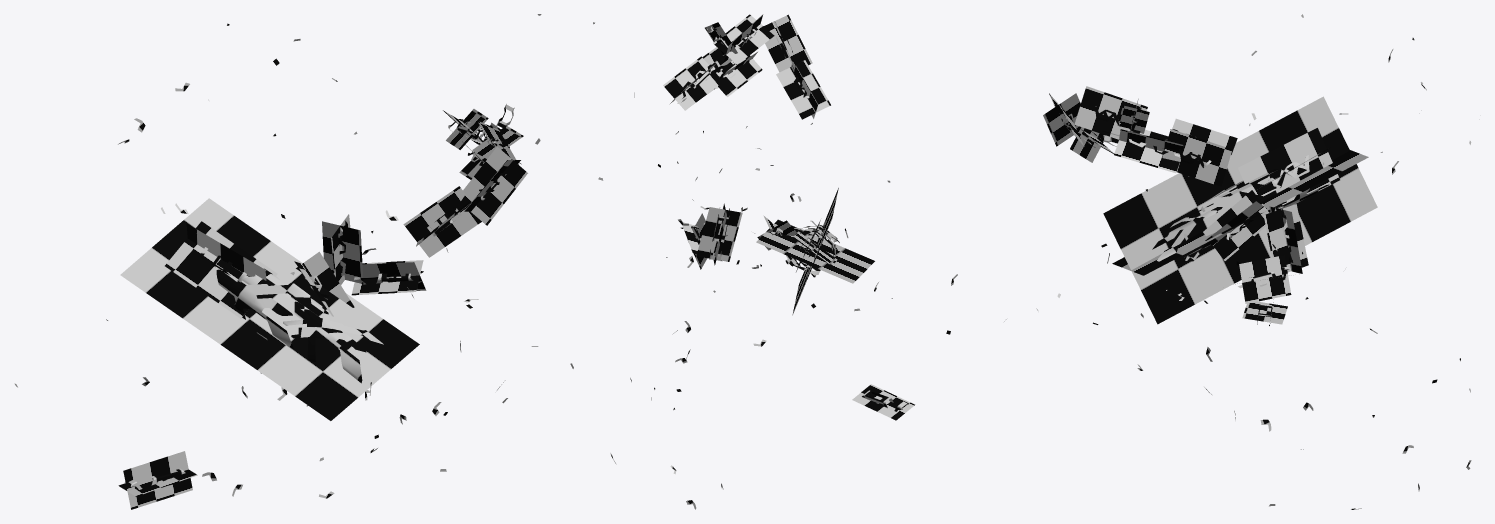
The model's file is zone_scrap_pirates3.obj.
The picture shows the model from 3 angles, left to right: view 1: azimuth 30°, elevation 25°; view 2: azimuth 150°, elevation 25°; view 3: azimuth 270°, elevation 25°; orthographic projection. The views are drawn at different scales.
Visible parts, largest first — view 1: claster_scrap_3; view 2: claster_scrap_3; view 3: claster_scrap_3.
Boxes of the visible parts, <box> form: claster_scrap_3: <box>14,14,541,509</box>; claster_scrap_3: <box>570,14,1006,509</box>; claster_scrap_3: <box>1036,14,1471,509</box>.
Bounding box in the file's own units: 325 × 294 × 253.
1 material, 1 textured.
